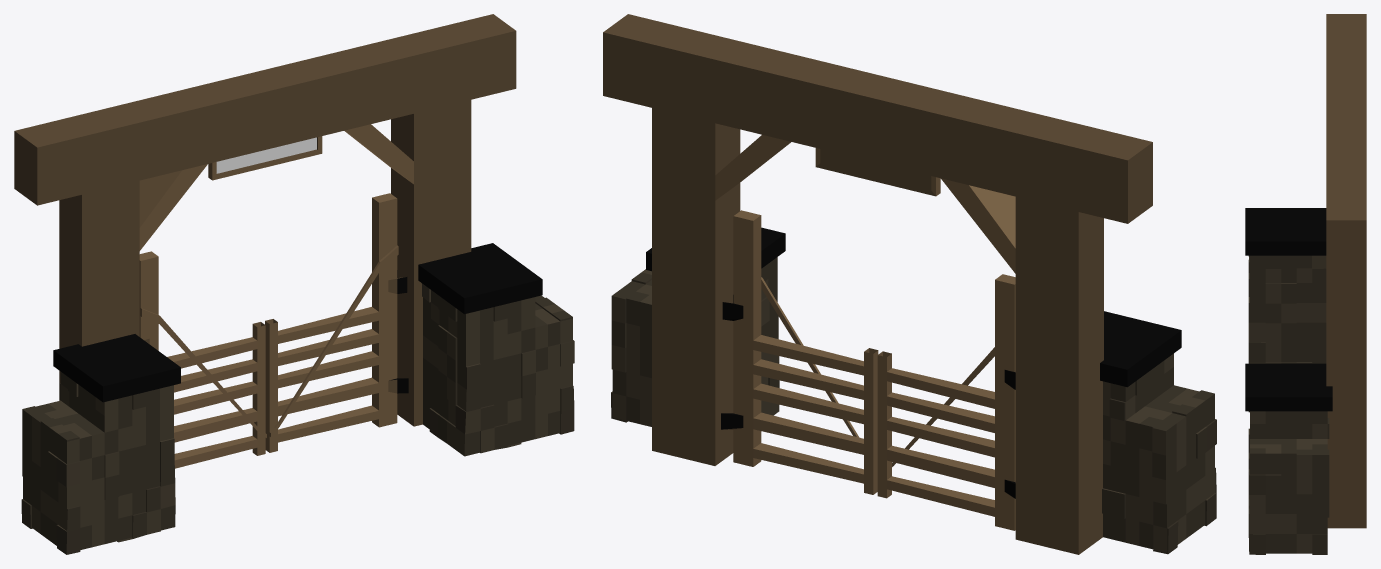
Rendered from Portão.fbx.
3 views of the same model, side by side, from view 1: azimuth 30°, elevation 25°; view 2: azimuth 150°, elevation 25°; view 3: azimuth 270°, elevation 25° (orthographic). The views are drawn at different scales.
Parts seen in each view (by area): view 1: PORTAL, PEDRO, PORTA; view 2: PORTAL, PORTA, PEDRO; view 3: PEDRO, PORTAL.
Boxes of the visible parts, x1,y1,x2,y2 form: PORTAL: [14, 14, 516, 426]; PEDRO: [21, 243, 574, 554]; PORTA: [139, 193, 398, 468]; PORTAL: [603, 14, 1152, 554]; PORTA: [733, 210, 1015, 530]; PEDRO: [611, 227, 1216, 554]; PEDRO: [1245, 208, 1332, 554]; PORTAL: [1326, 14, 1366, 528].
Bounding box in the file's own units: 735 × 514 × 172.
